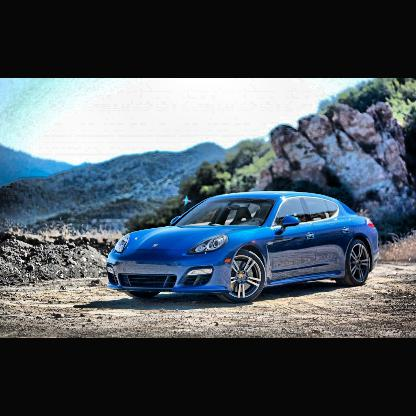Porsche Panamera Sedan 2012: (108, 192, 382, 306)
